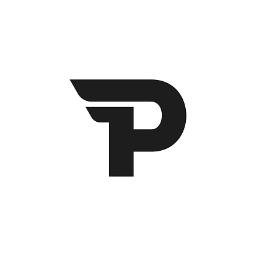p: (88, 71, 190, 191)
